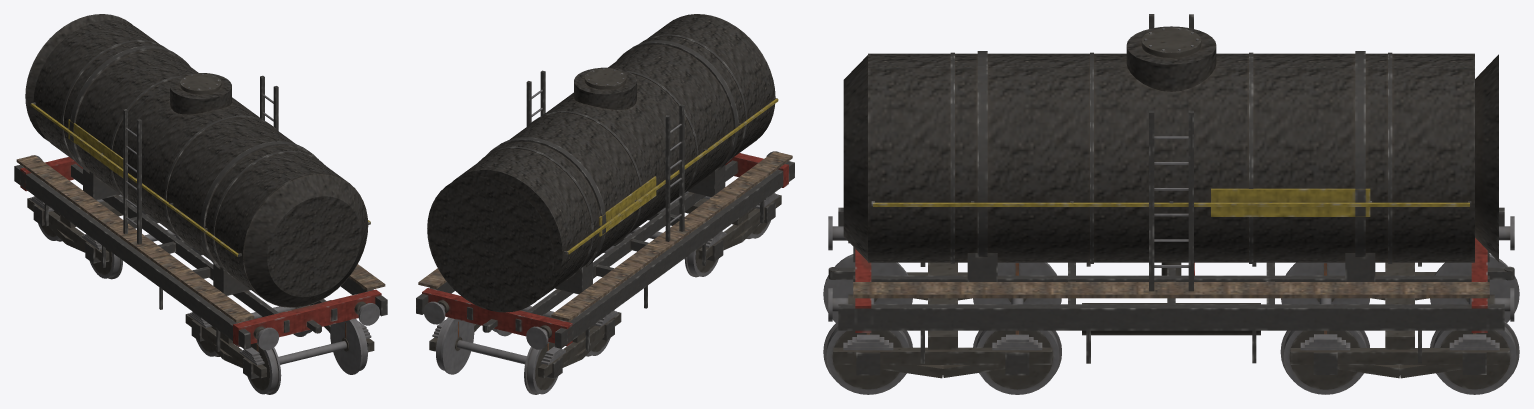
Rendered from feWagonTankCar_HD.fbx.
3 views of the same model, side by side, from view 1: azimuth 30°, elevation 25°; view 2: azimuth 150°, elevation 25°; view 3: azimuth 270°, elevation 25° (orthographic). The views are drawn at different scales.
Visible parts, largest first — view 1: feWagonTankCar_Body, FeSpin_r0.42_Bogie00, FeSpin_r0.42_Bogie10, FeSpin_r0.42_Bogie01; view 2: feWagonTankCar_Body, FeSpin_r0.42_Bogie11, FeSpin_r0.42_Bogie01, FeSpin_r0.42_Bogie10; view 3: feWagonTankCar_Body, FeSpin_r0.42_Bogie00, FeSpin_r0.42_Bogie11, FeSpin_r0.42_Bogie10, FeSpin_r0.42_Bogie01.
Boxes of the visible parts, x1=… form: feWagonTankCar_Body: x1=14, y1=14, x2=387, y2=379; FeSpin_r0.42_Bogie00: x1=247, y1=318, x2=367, y2=394; FeSpin_r0.42_Bogie10: x1=89, y1=229, x2=202, y2=279; FeSpin_r0.42_Bogie01: x1=192, y1=305, x2=311, y2=356; feWagonTankCar_Body: x1=416, y1=14, x2=794, y2=378; FeSpin_r0.42_Bogie11: x1=436, y1=317, x2=561, y2=394; FeSpin_r0.42_Bogie01: x1=603, y1=227, x2=718, y2=277; FeSpin_r0.42_Bogie10: x1=492, y1=306, x2=614, y2=356; feWagonTankCar_Body: x1=828, y1=14, x2=1514, y2=378; FeSpin_r0.42_Bogie00: x1=823, y1=254, x2=912, y2=394; FeSpin_r0.42_Bogie11: x1=1430, y1=254, x2=1519, y2=394; FeSpin_r0.42_Bogie10: x1=1280, y1=262, x2=1369, y2=394; FeSpin_r0.42_Bogie01: x1=973, y1=262, x2=1061, y2=394.
Bounding box in the file's own units: 2.5 × 3.6 × 7.
Materials: 1 (1 with a texture image).
